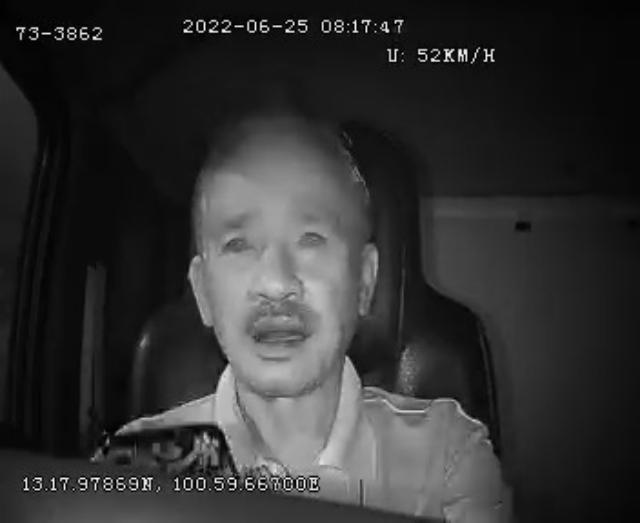PhoneUse: (96, 422, 238, 476)
SafeDriving: (210, 217, 264, 265), (287, 209, 337, 259)
